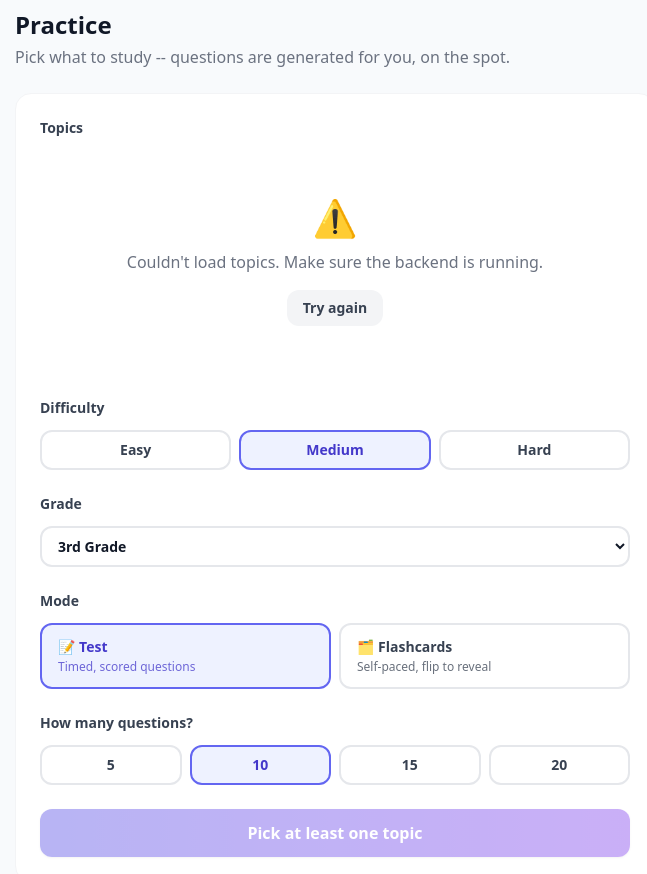
Test: says the topics could not be loaded, and a retry asks again
Expected: the text "Couldn't load topics. Make sure the backend is running." is shown, [127,251,543,273]
Expected: the button "Pick at least one topic" is disabled, [40,809,630,857]
Click the button "Try again" at [335, 308], box [287,290,383,326]
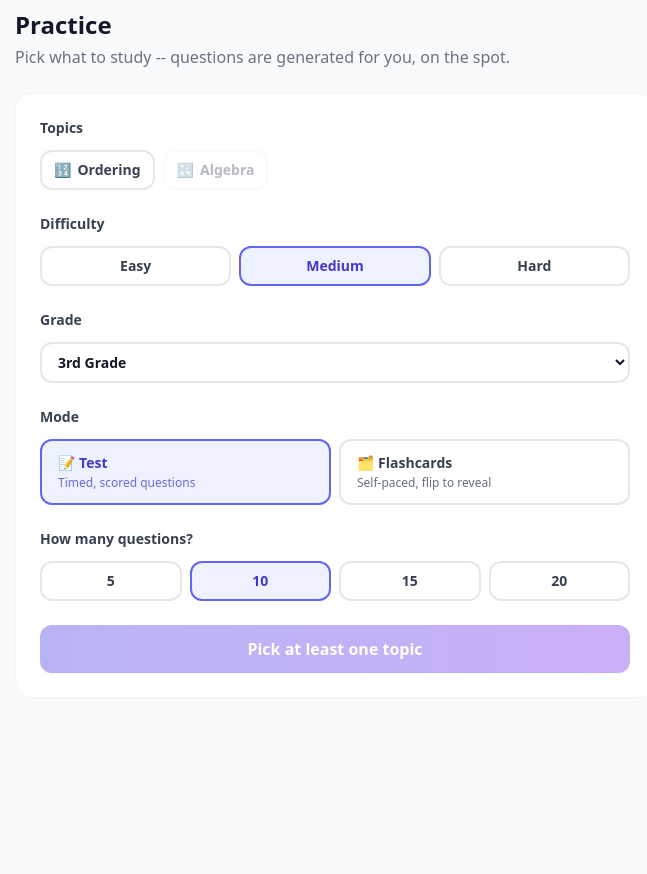
Expected: the button "🔢 ordering" is enabled, [40,150,154,190]
